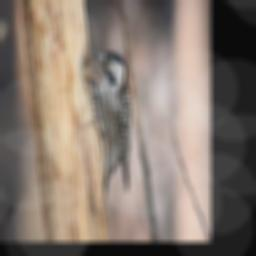Woodpecker: (84, 49, 130, 197)
